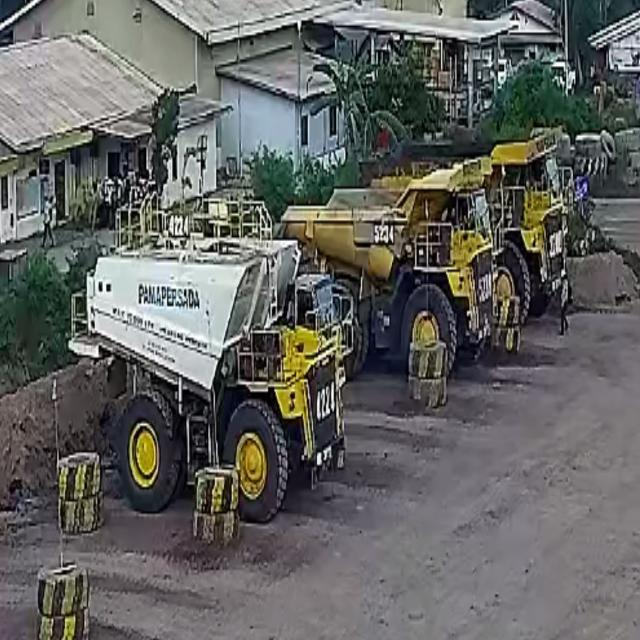dump_truck: (69, 208, 349, 527)
